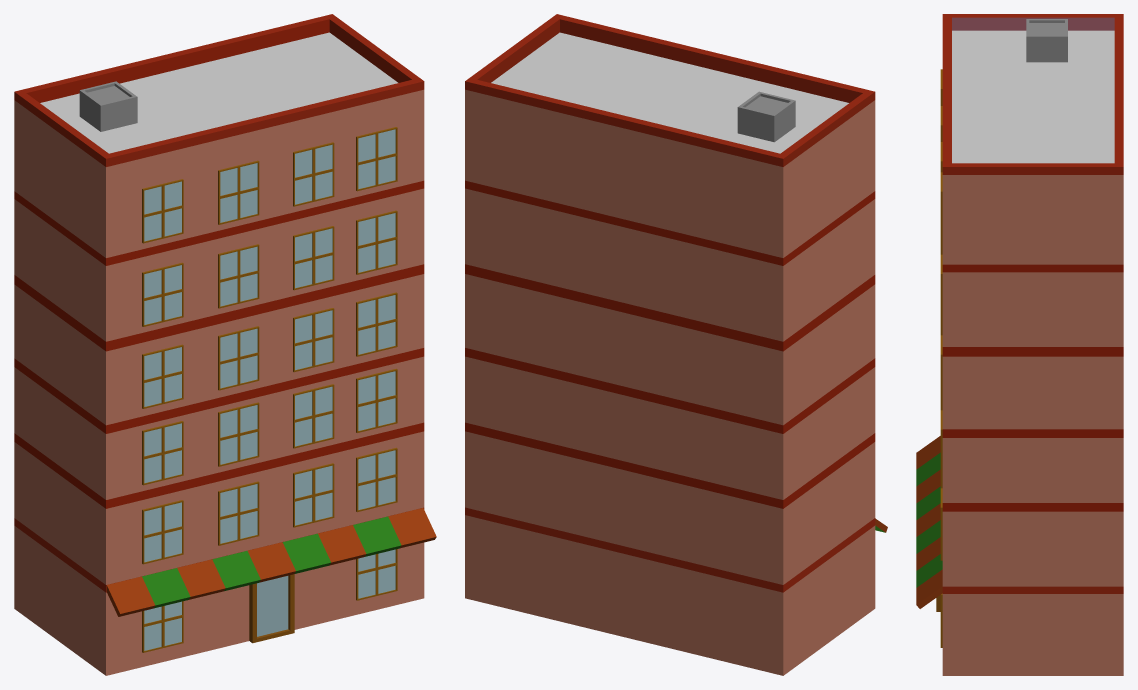
Rendered from Store_2.fbx.
3 views of the same model, side by side, from view 1: azimuth 30°, elevation 25°; view 2: azimuth 150°, elevation 25°; view 3: azimuth 270°, elevation 25° (orthographic).
Visible parts, largest first — view 1: Cube; view 2: Cube; view 3: Cube.
Part boxes in pixels (left/top/right/bottom): Cube: left=14, top=14, right=436, bottom=675; Cube: left=465, top=14, right=887, bottom=675; Cube: left=916, top=14, right=1123, bottom=675.
Size of the model in its own units: 16 by 25.46 by 9.17.
